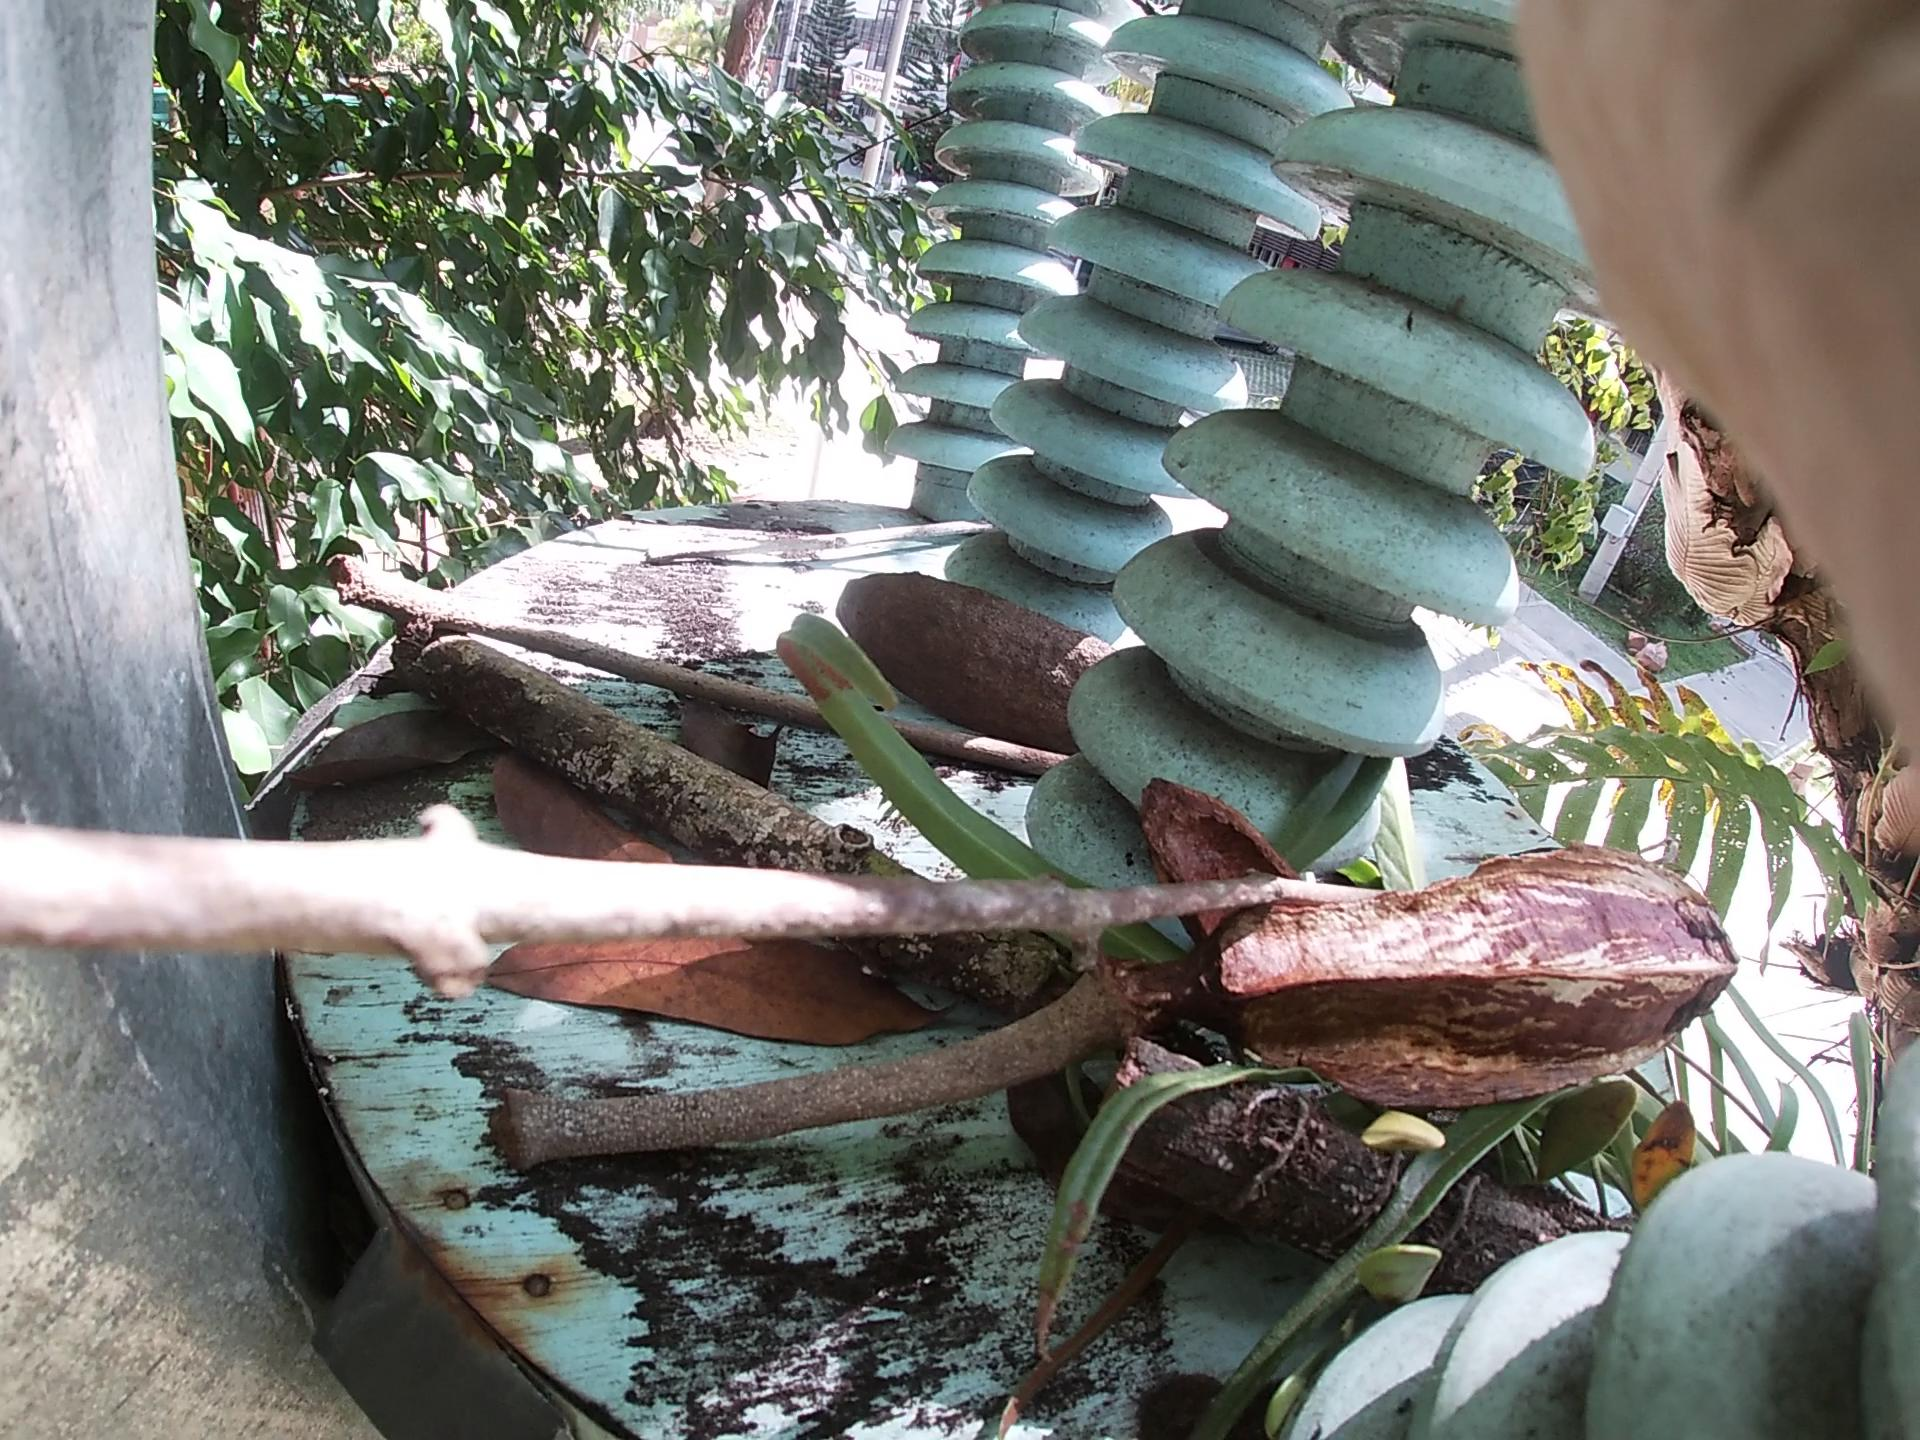branch with leaves: (517, 675, 1601, 1230)
leaf: (482, 700, 910, 1072)
mahogany fruit: (1134, 821, 1813, 1156), (801, 537, 1119, 824), (1119, 790, 1333, 977)
tree branch: (68, 867, 1364, 1000), (343, 555, 1057, 755), (404, 591, 1052, 787), (547, 1026, 1205, 1125), (609, 507, 1043, 570)
